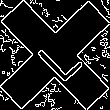L_NW: (26, 26, 84, 84)
